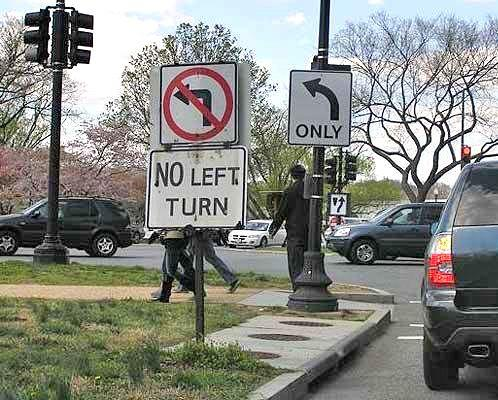no_left_turn: (162, 66, 231, 138)
